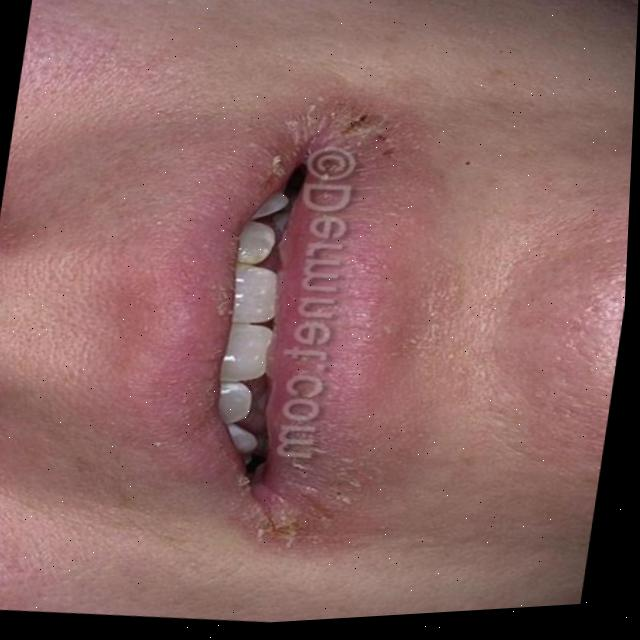Eczema: (143, 91, 441, 551)
